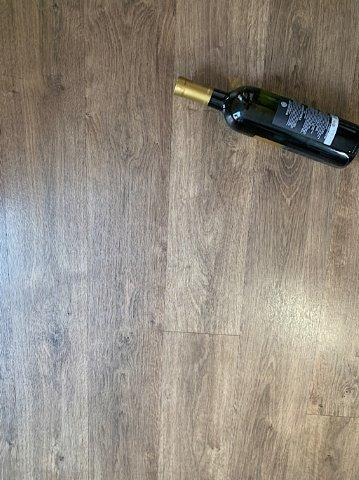botolkaca: (171, 76, 359, 171)
